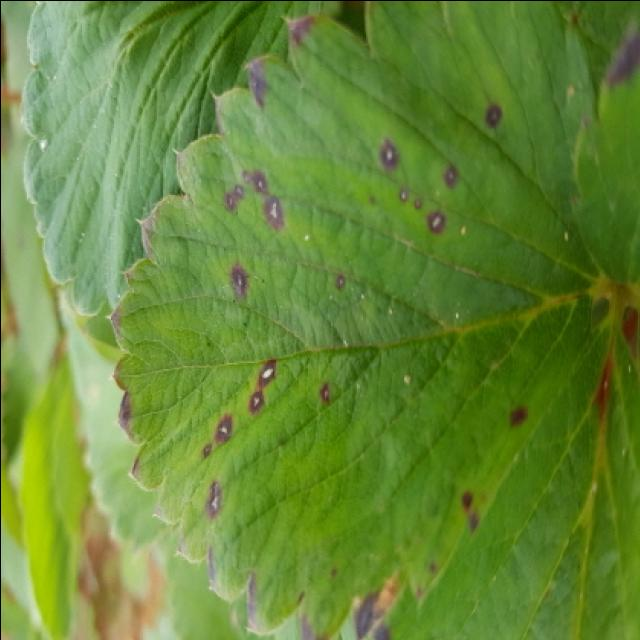Leaf Spot: (105, 2, 601, 640)
